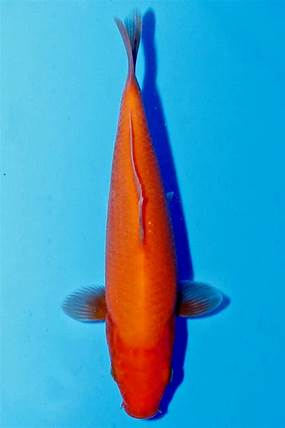red: (60, 8, 227, 419)
